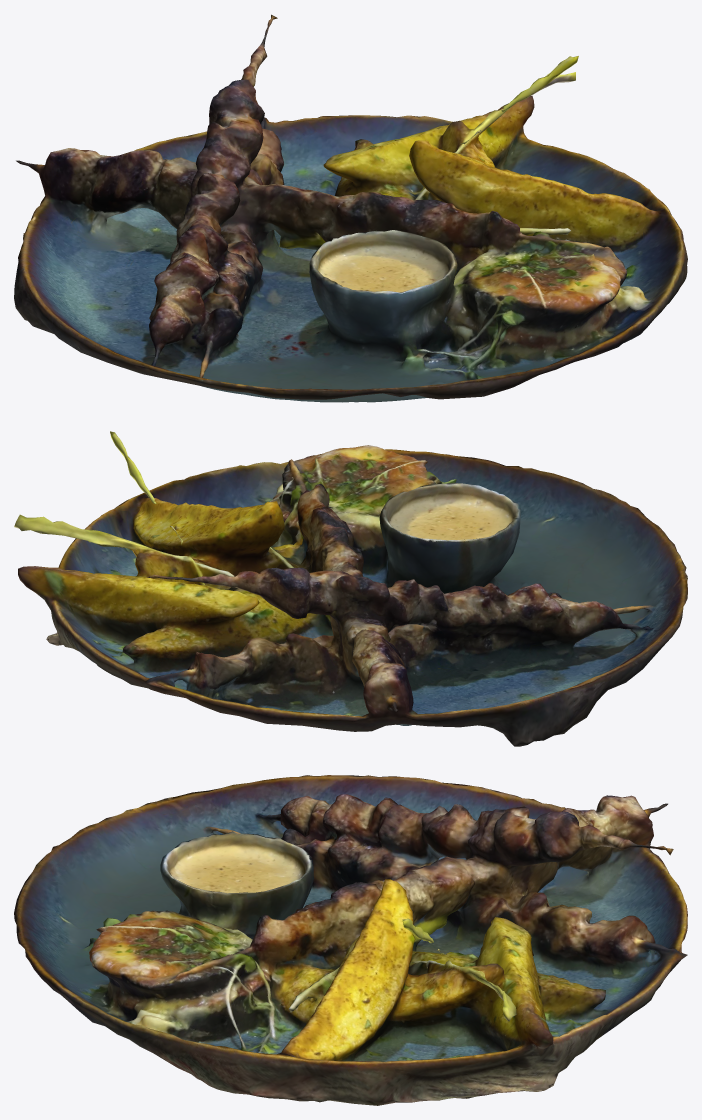
Rendered from brochettes-de-viande.ar.glb.
The picture shows the model from 3 angles, top to bottom: view 1: azimuth 30°, elevation 25°; view 2: azimuth 150°, elevation 25°; view 3: azimuth 270°, elevation 25°; orthographic projection. The views are drawn at different scales.
Parts seen in each view (by area): view 1: /ObjectCapture/Geometry/Mesh; view 2: /ObjectCapture/Geometry/Mesh; view 3: /ObjectCapture/Geometry/Mesh.
Boxes of the visible parts, x1=… form: /ObjectCapture/Geometry/Mesh: x1=14, y1=14, x2=687, y2=402; /ObjectCapture/Geometry/Mesh: x1=14, y1=431, x2=687, y2=746; /ObjectCapture/Geometry/Mesh: x1=14, y1=775, x2=687, y2=1105.
Size of the model in its own units: 0.2798 by 0.077 by 0.2719.
Materials: 1 (1 with a texture image).
